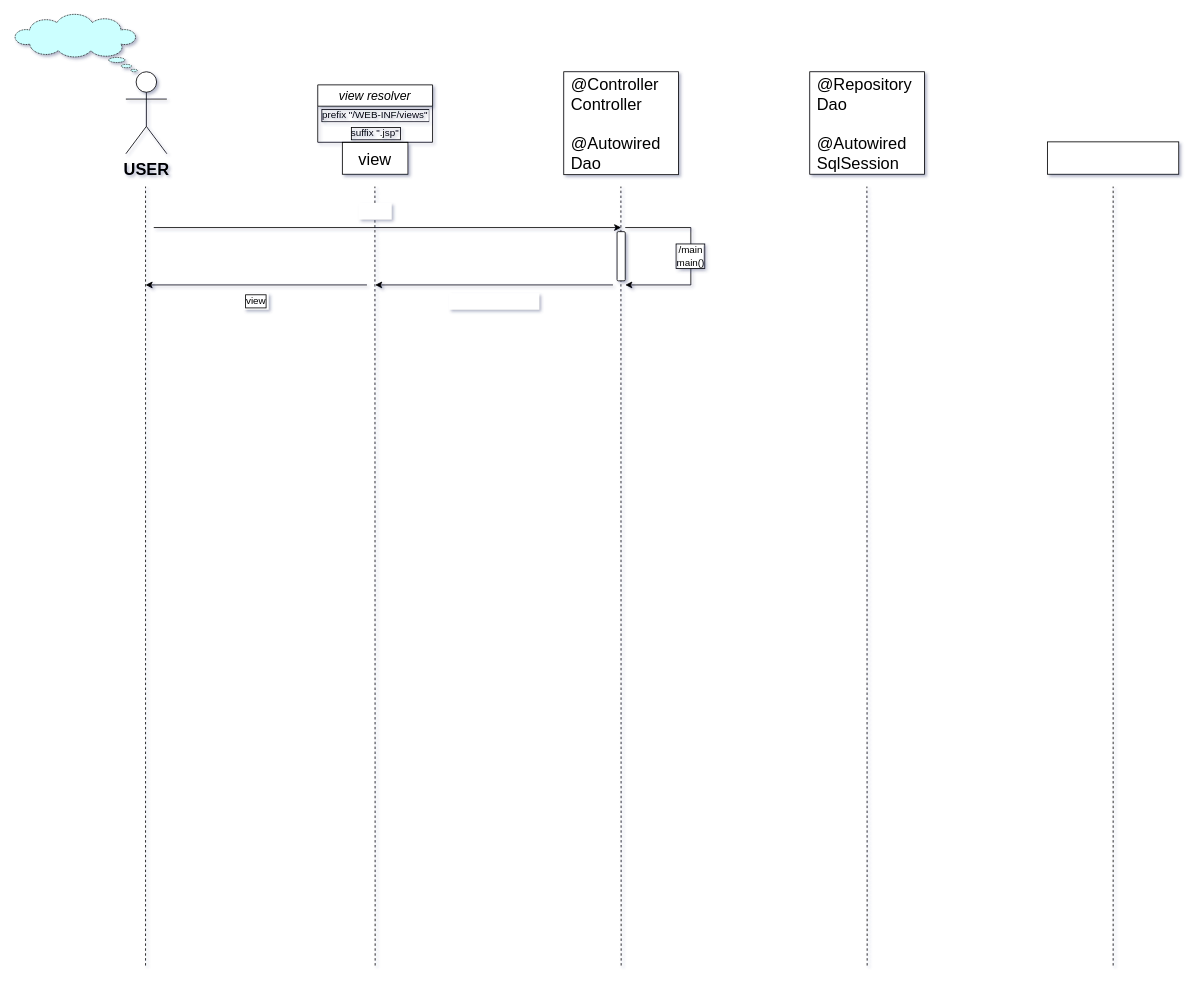
This 1198x986 diagram has some shape labels left out. The shapes that lost their labels are listed below. From the top down, each one's centre as x and y in pixels, then its label:
pixel 75 43: MYSITE5/main
pixel 1113 157: xxxxxxxxx.xml
pixel 374 211: /main
pixel 494 301: return "/main/index"
